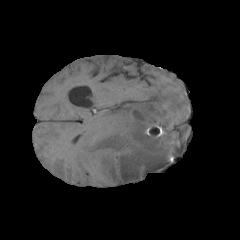glioma: (82, 84, 190, 183)
